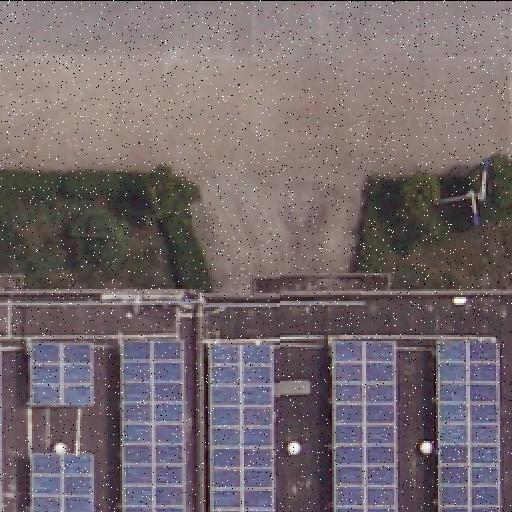solar-panel: (120, 337, 188, 511), (331, 337, 397, 511), (207, 337, 273, 511), (437, 337, 499, 511), (27, 337, 93, 407), (32, 452, 96, 512), (0, 340, 4, 512)
